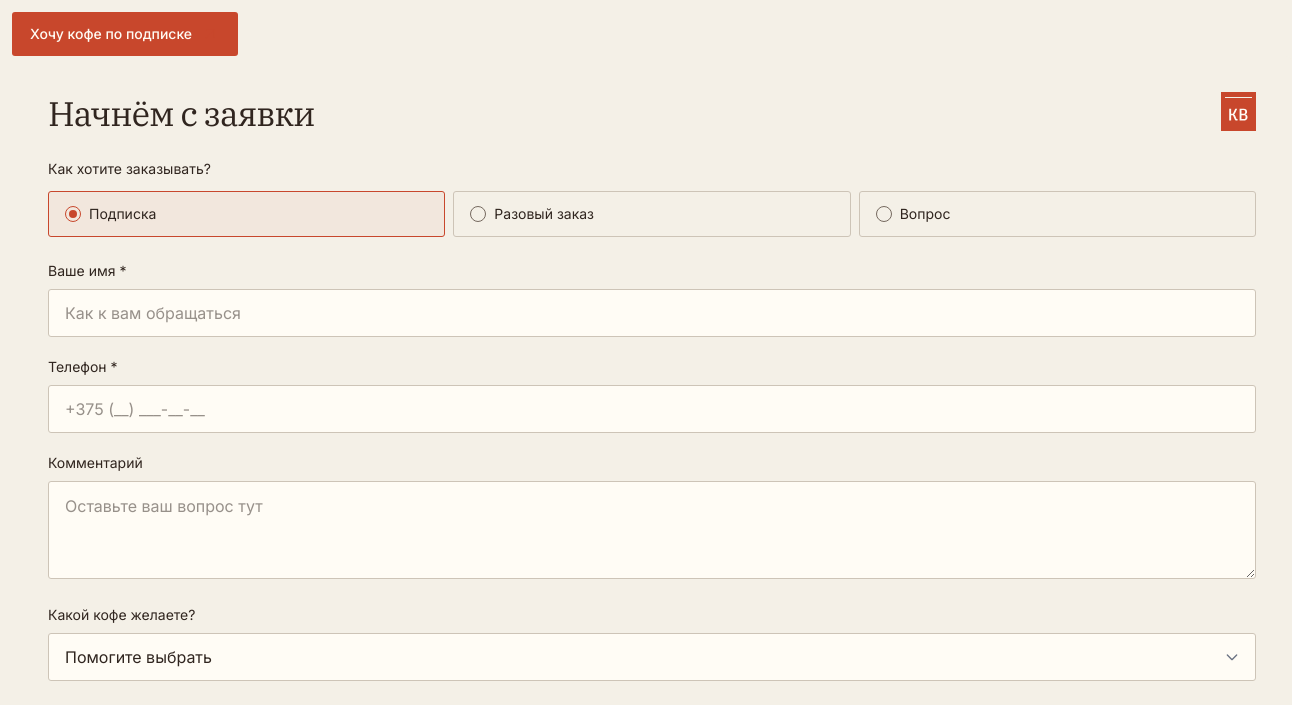
Test case: LeadForm › пресет интереса из контекста возвращает «Подписка»
Click the radio button labelled "Вопрос". click: (925, 213)
box: [859,190,1256,236]
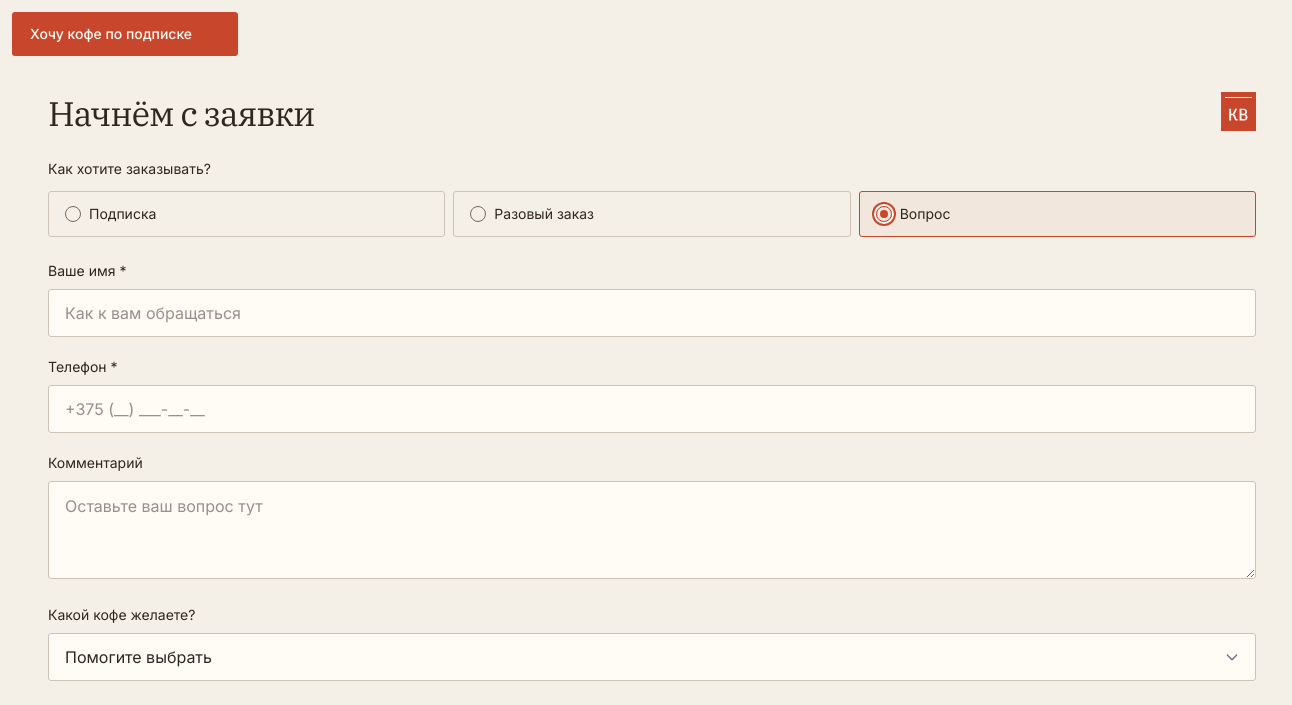
Result: the radio button labelled "Вопрос" is checked at [859,190,1256,236]
Click the button "Хочу кофе по подписке". click: (125, 34)
box: [12,12,238,56]
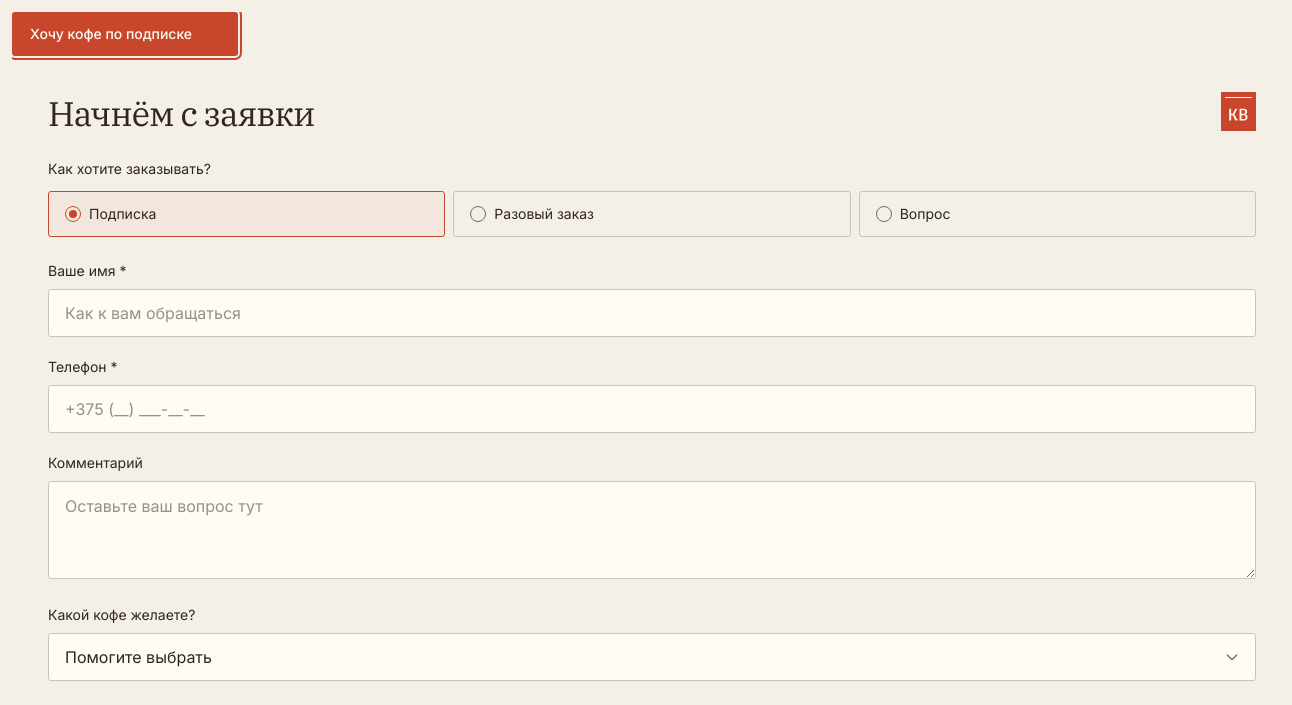
Result: the radio button labelled "Подписка" is checked at [48,190,445,236]
